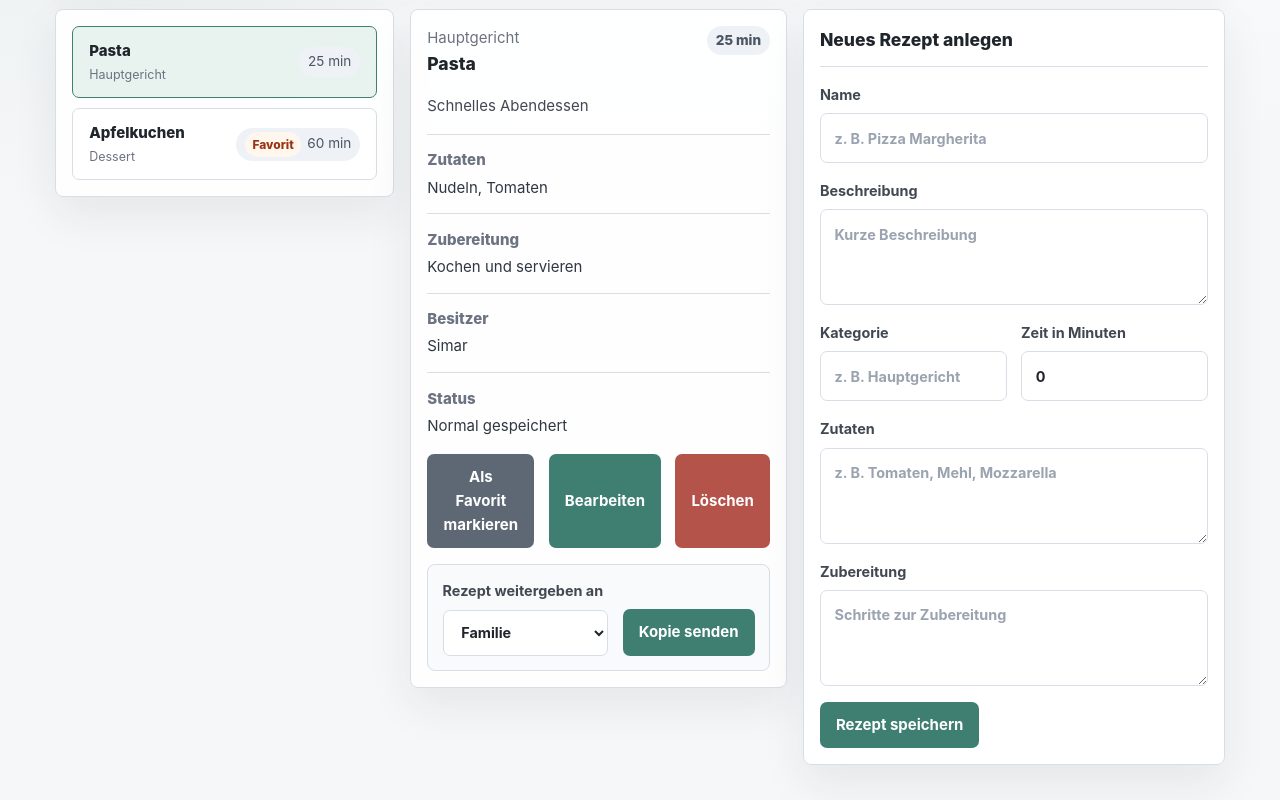
Scenario: RecipeList › updates an existing recipe
(page scrolled)
Click the button "Bearbeiten" at x=605, y=501, box [549,454,661,548]
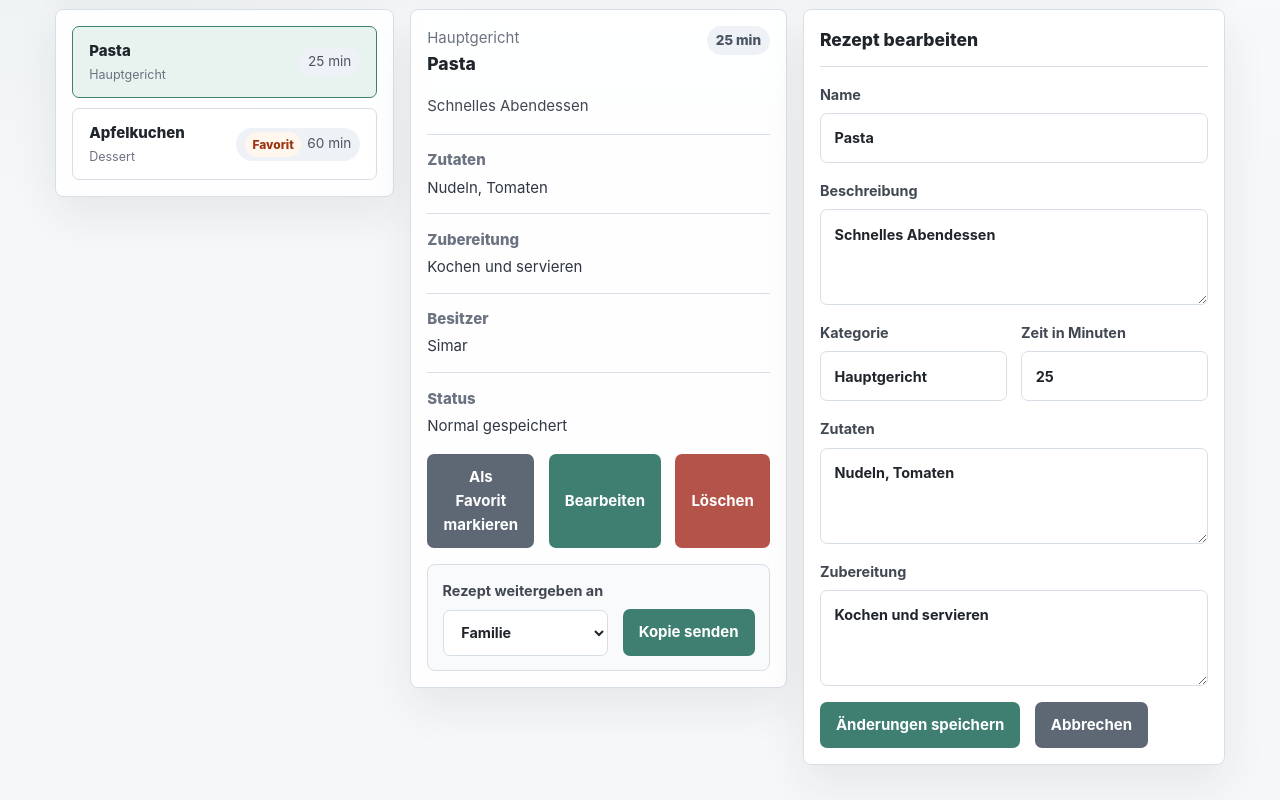
Replace the text in the field with placeholder "z. B. Pizza Margherita" with "Pasta Napoli" at x=1014, y=138, box [820,113,1208,163]
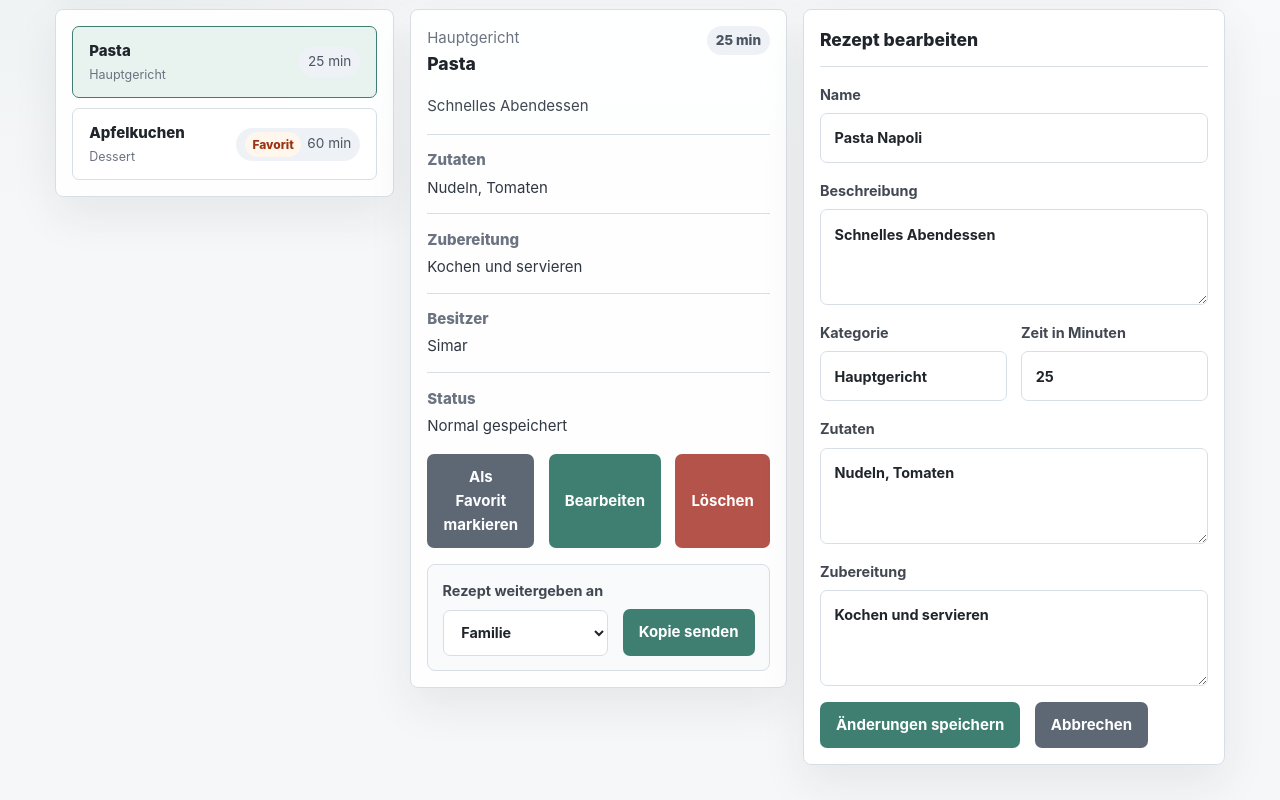
Submit the form, box [820,83,1208,748]
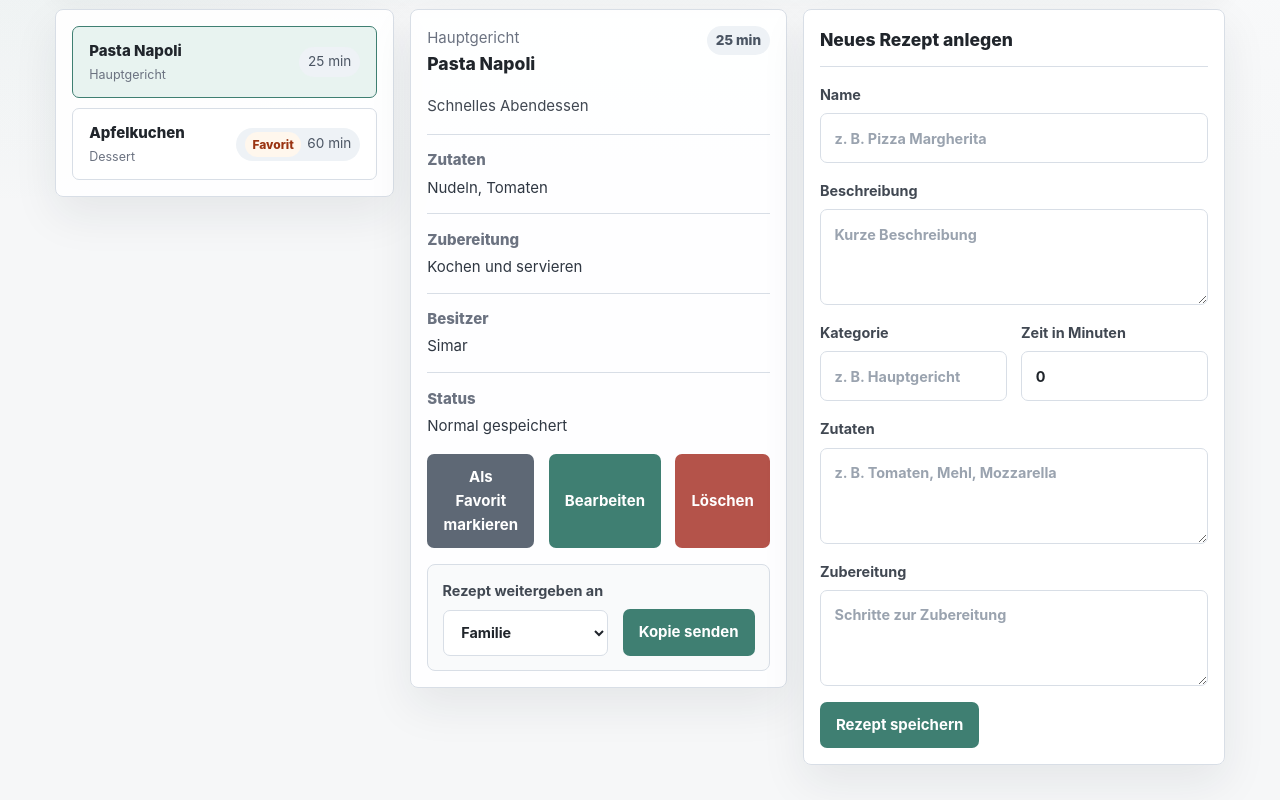
Expected: the text "Pasta Napoli" is shown, [89,38,182,62]
